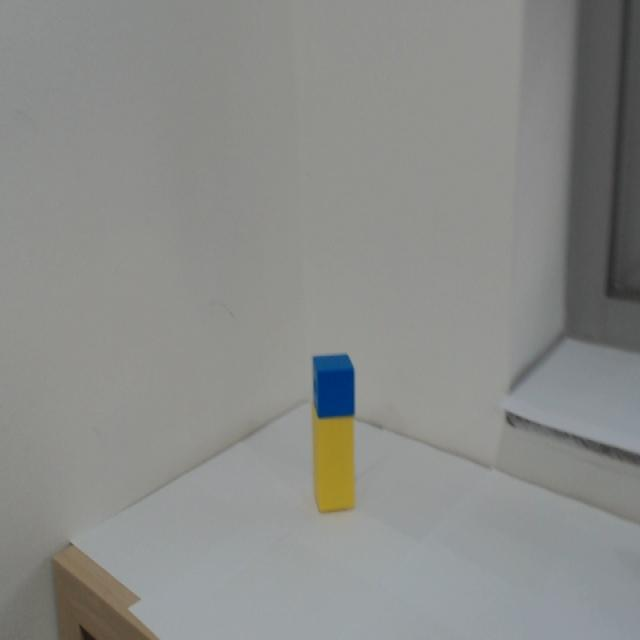cube: (310, 351, 358, 420)
